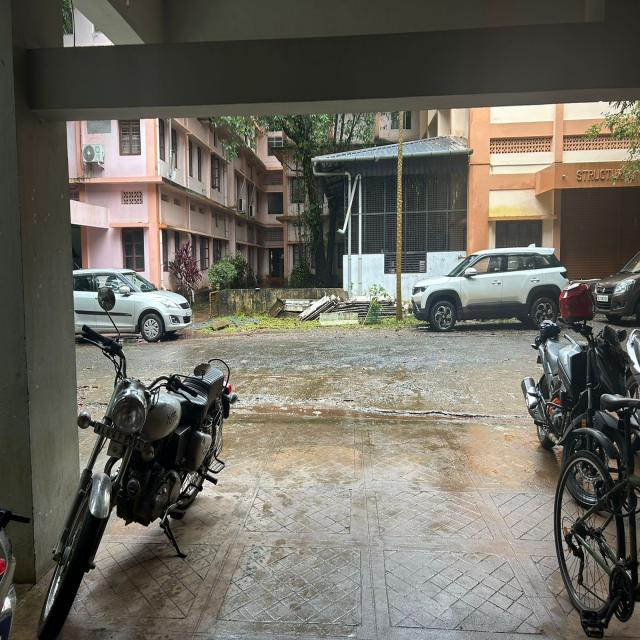car ahead at: (415, 241, 566, 331)
motorcycle ahead at: (36, 304, 236, 636)
